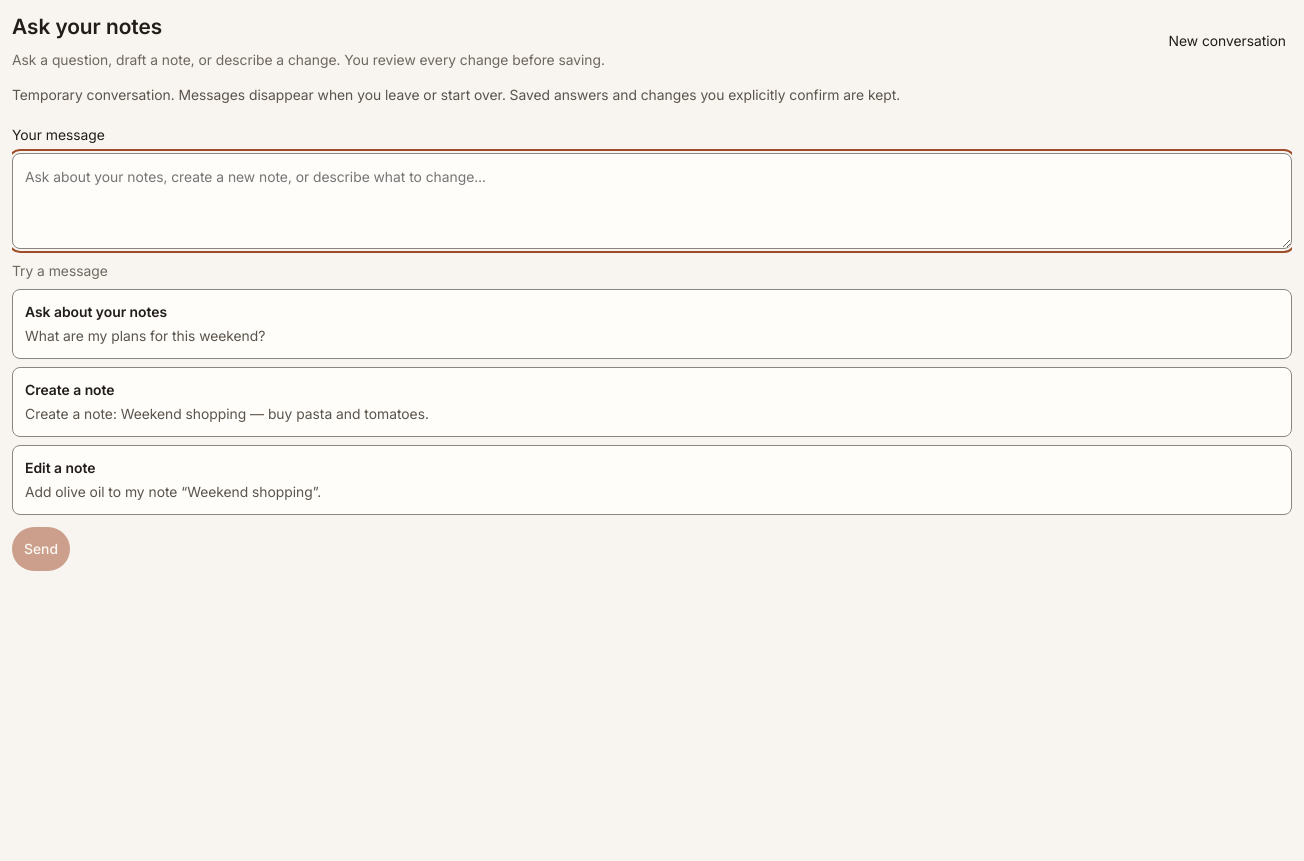
negotiates generic Ask forms and fresh chat allocation while continuations carry no opt-in flag
Replace the text in the text box labelled "Your message" with "Change the deadline" at {"x": 652, "y": 201}, box [12,153,1292,249]
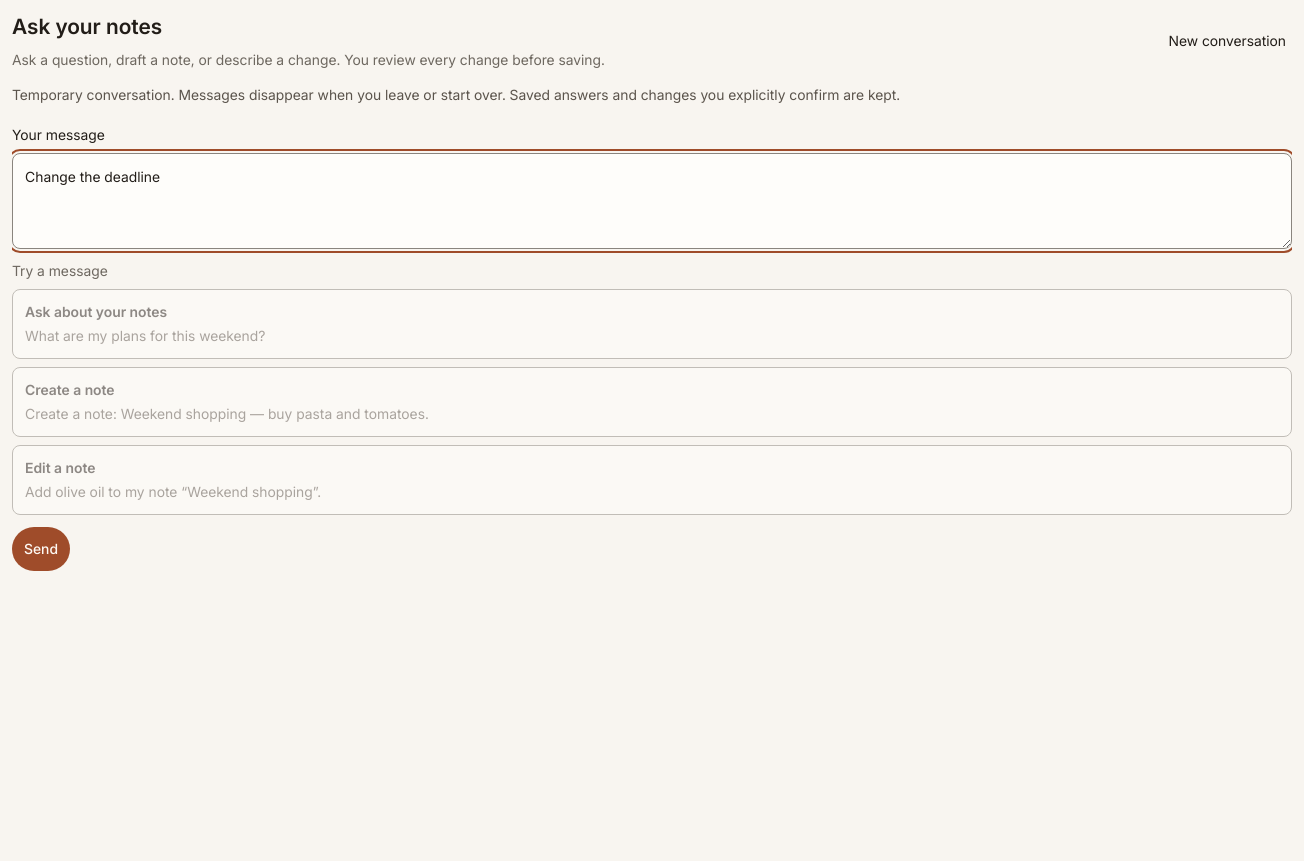
Click the button "Send" at {"x": 41, "y": 549}, box [12,527,70,571]
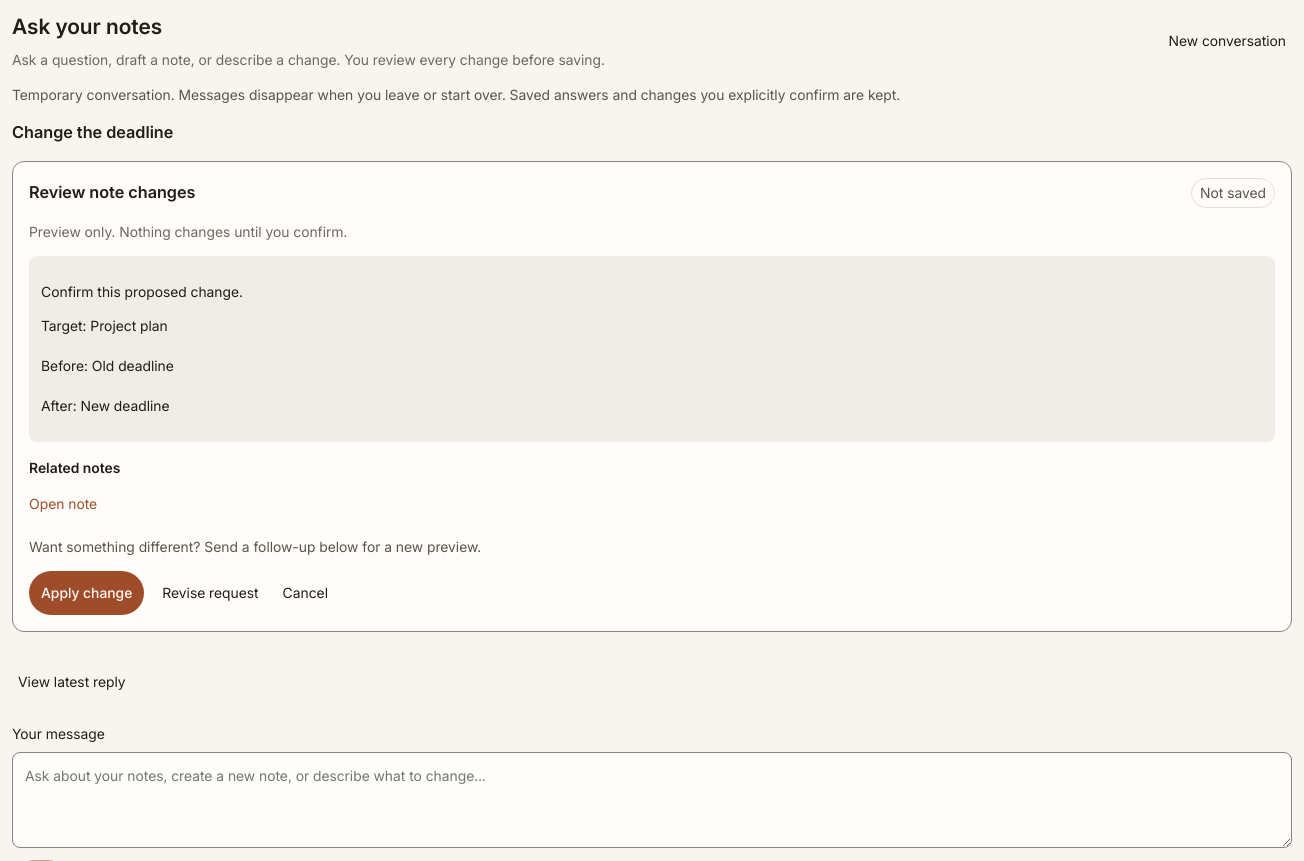
Expected: the button "Apply change" is shown, [29,571,144,615]
Click the button "New conversation" at {"x": 1227, "y": 41}, box [1162,19,1292,63]
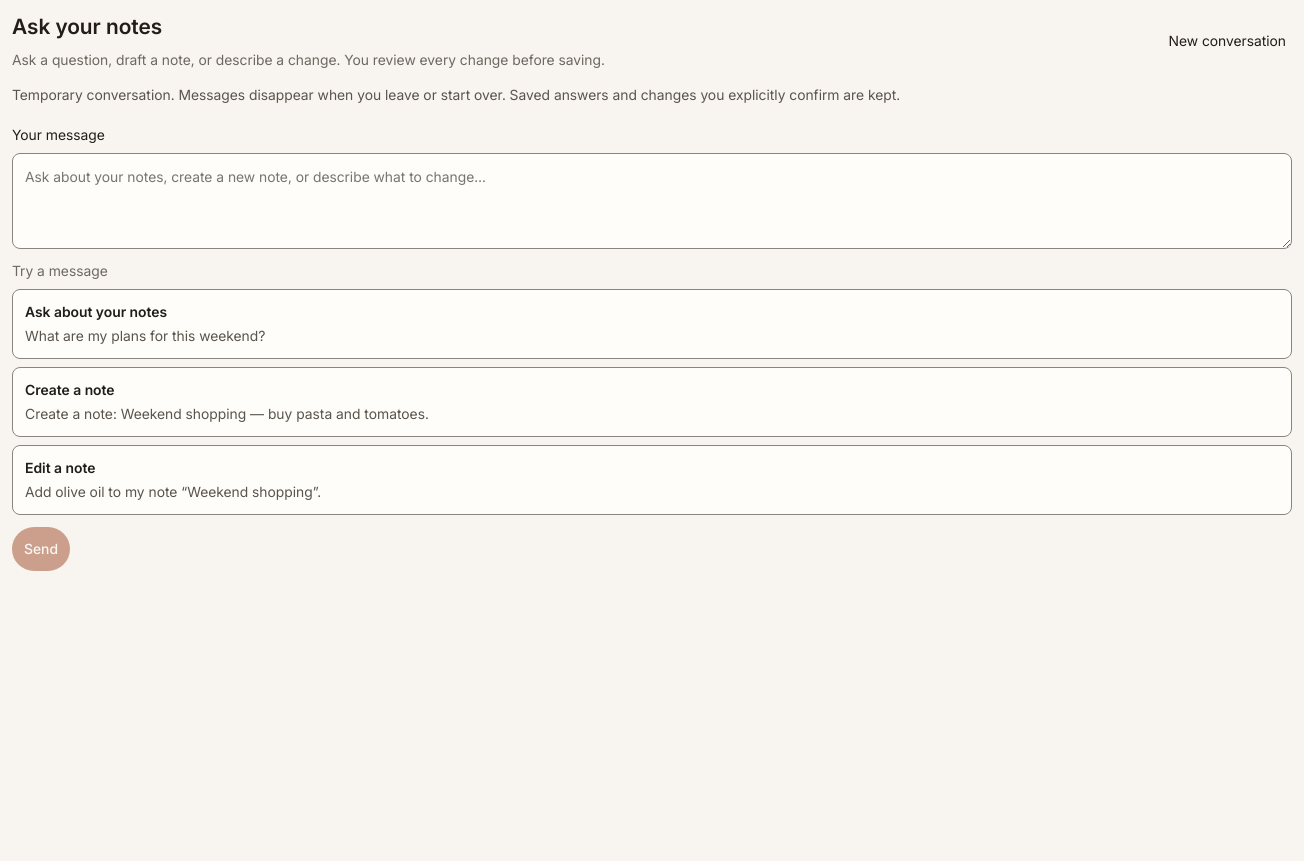
Replace the text in the text box labelled "Your message" with "Create a new note" at {"x": 652, "y": 201}, box [12,153,1292,249]
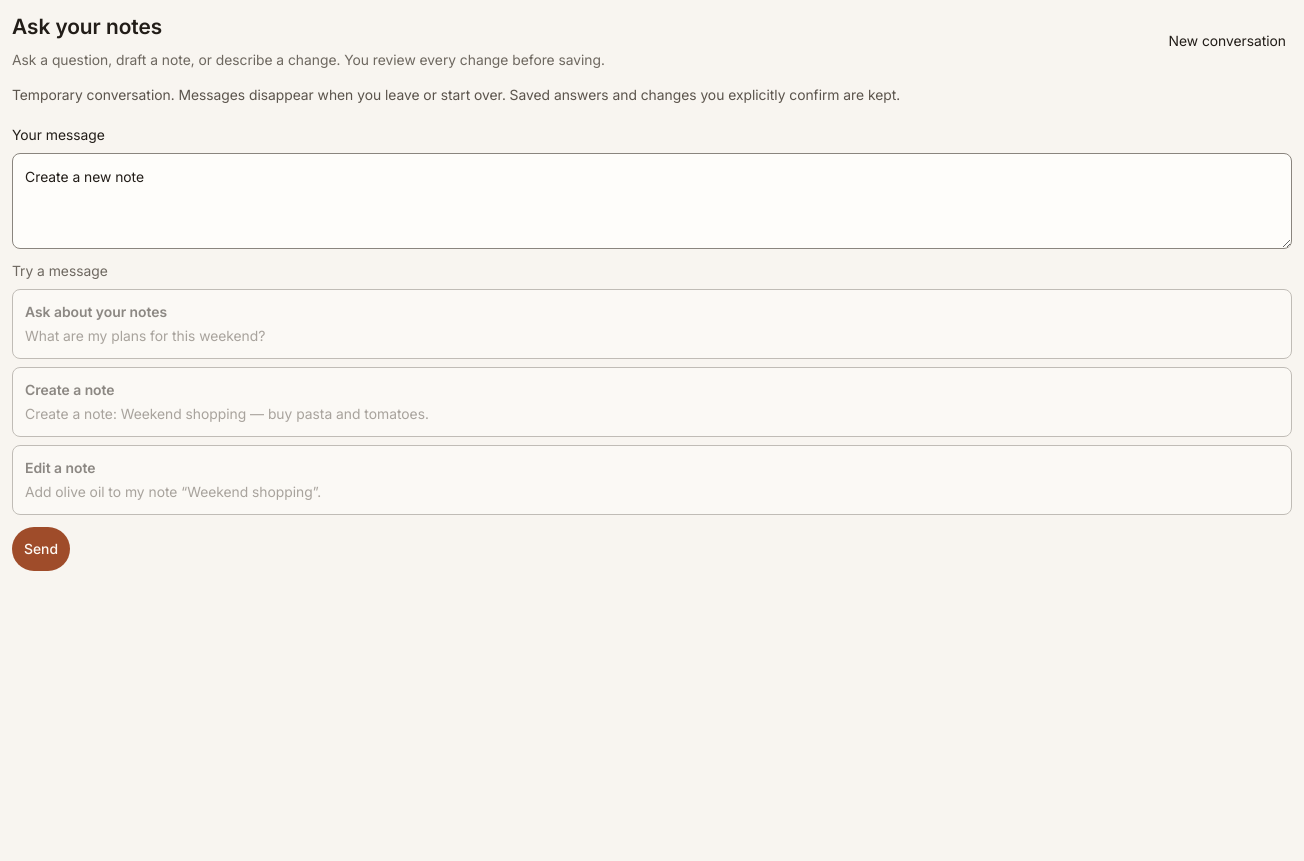
Click the button "Send" at {"x": 41, "y": 549}, box [12,527,70,571]
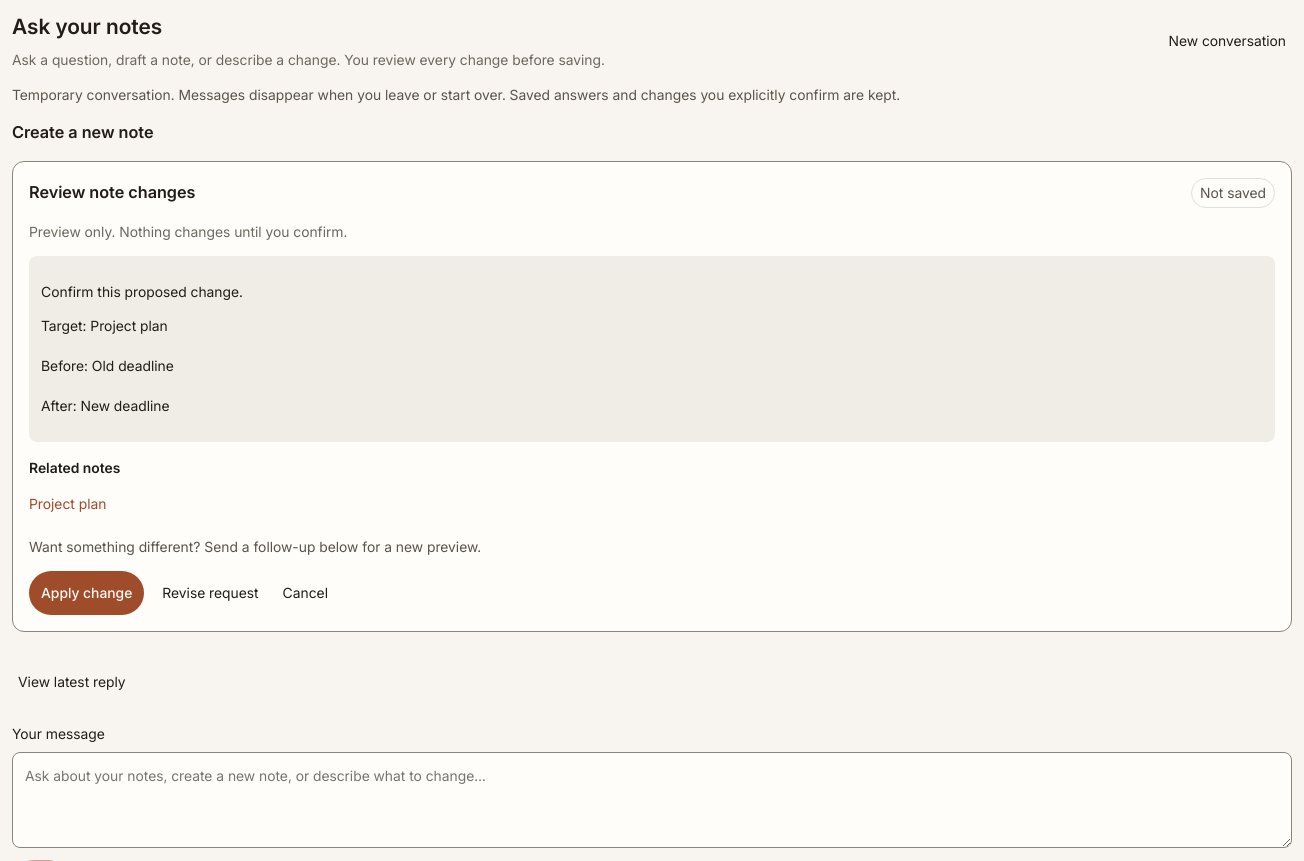
Expected: the button "Apply change" is shown, [29,571,144,615]
